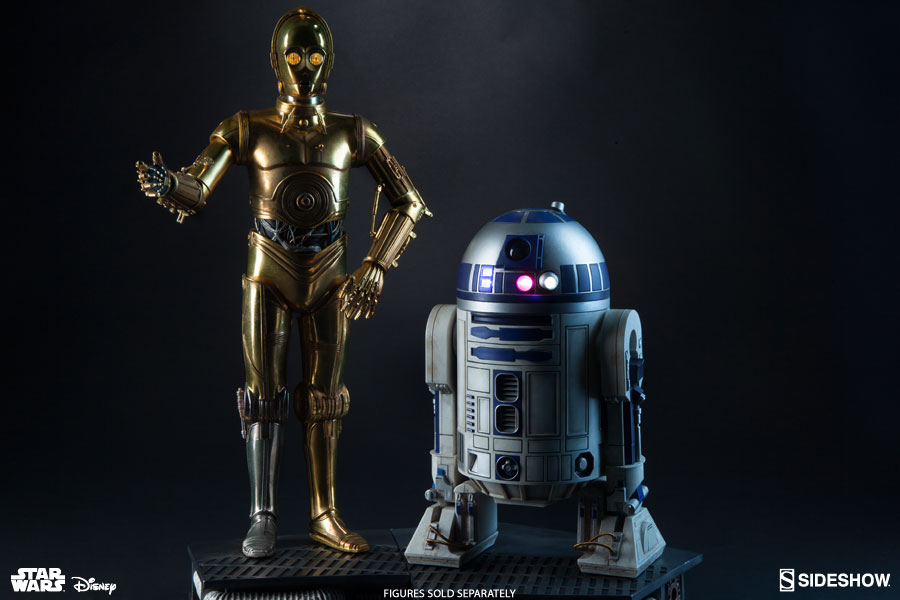r2d2: (404, 201, 666, 579)
